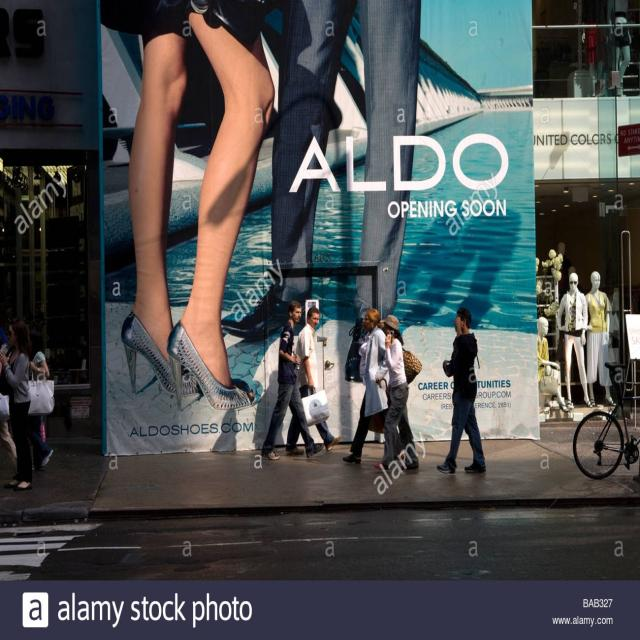body: (118, 0, 424, 414), (534, 239, 618, 413), (260, 299, 325, 461), (342, 306, 405, 464), (283, 305, 342, 456), (434, 306, 486, 476), (372, 312, 423, 470), (0, 314, 34, 492), (579, 0, 632, 98), (27, 328, 56, 472), (0, 326, 19, 474)
